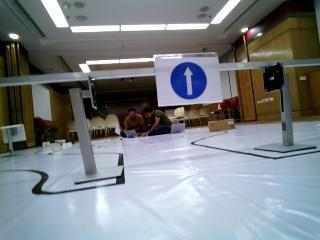straight: (152, 55, 221, 104)
